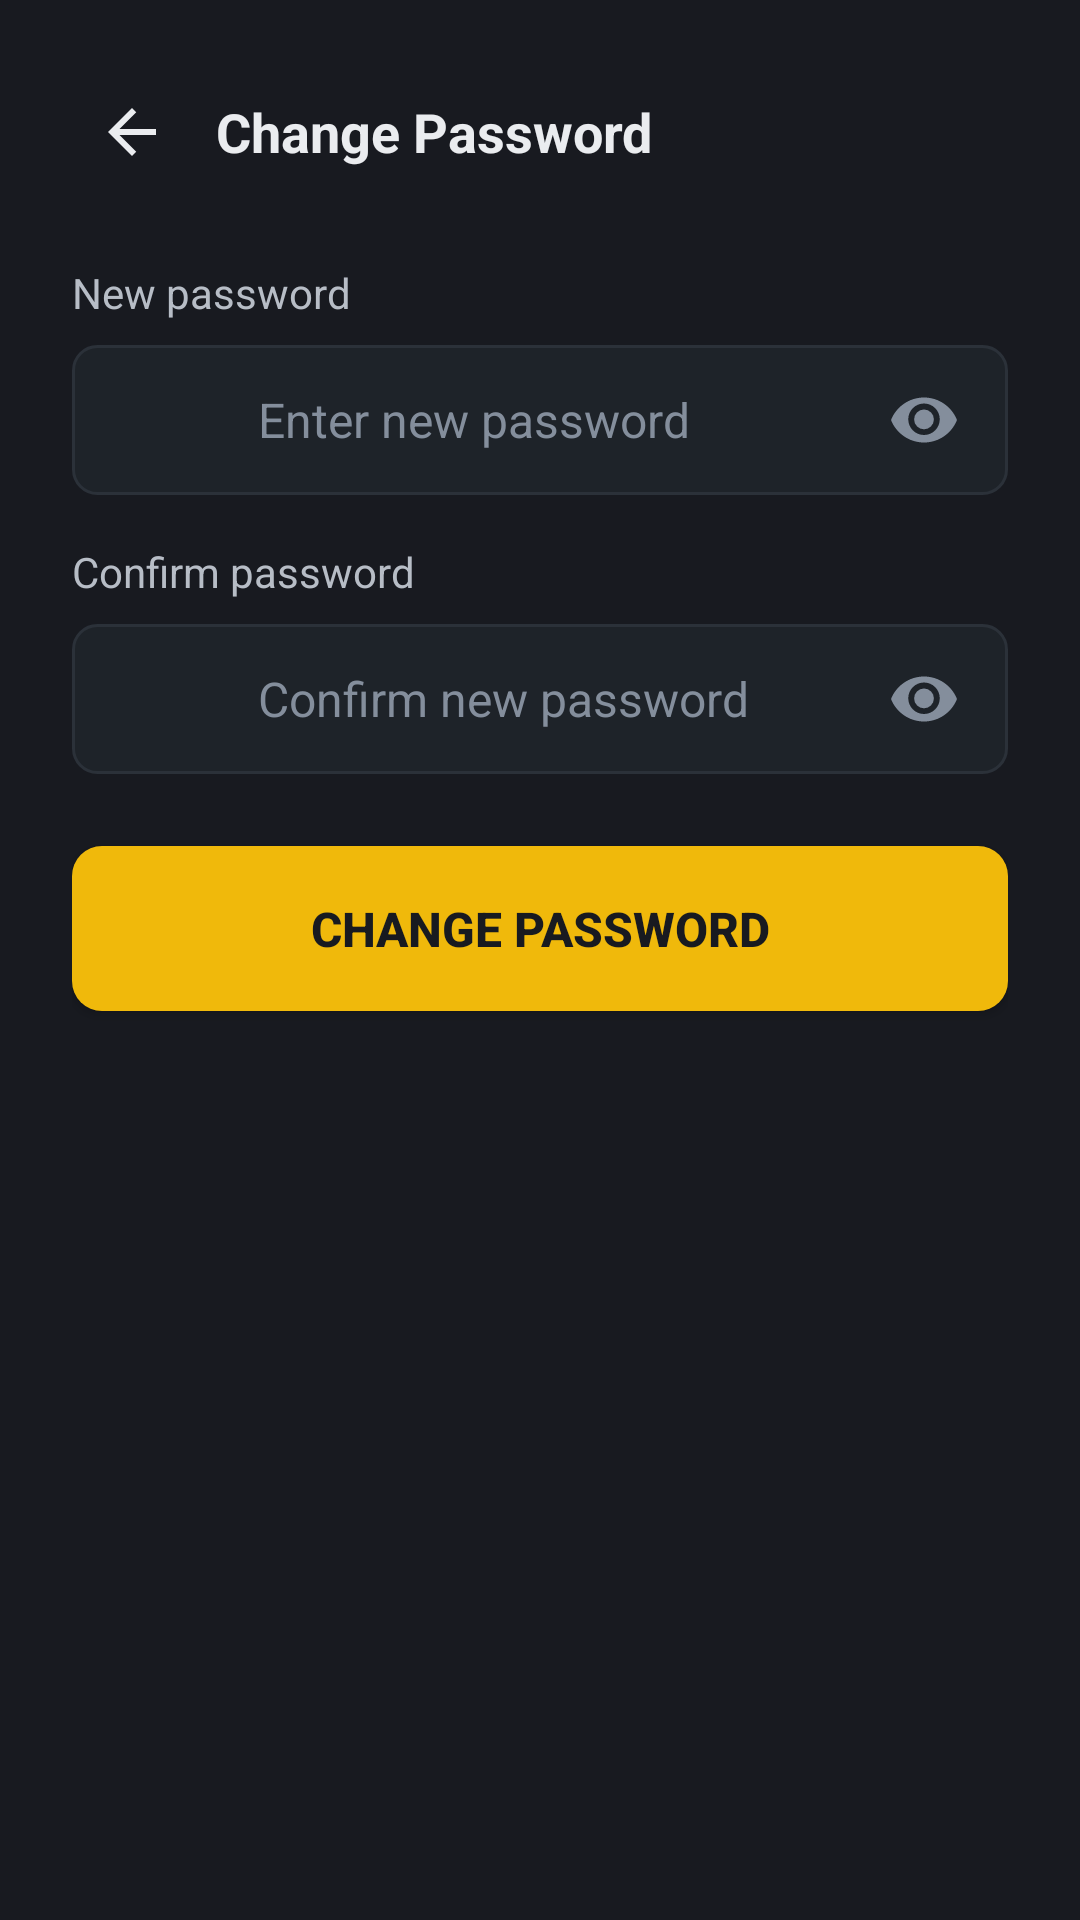

Icons on this 1080 × 1920 Android screen, each with the point to tap as (x=x, y=y):
arrow back: (x=132, y=132)
eye: (x=924, y=420), (x=924, y=699)
